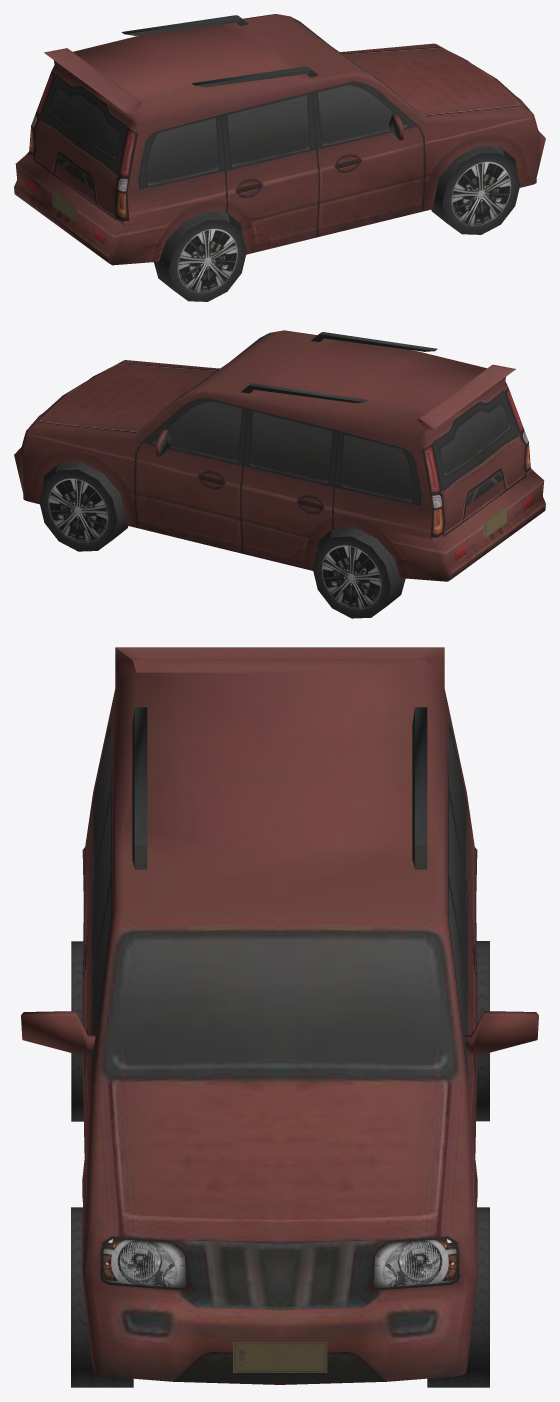
The model's file is sf_suv_01.glb.
3 views of the same model, one above another, from view 1: azimuth 30°, elevation 25°; view 2: azimuth 150°, elevation 25°; view 3: azimuth 270°, elevation 25° (orthographic). The views are drawn at different scales.
Visible parts, largest first — view 1: Traffic_SUV_01_Body, Traffic_SUV_01_Wheel_Back_R_Traffic_Vehicle_Wheels_01_8_0, Traffic_SUV_01_Wheel_Front_R_Traffic_Vehicle_Wheels_01_8_0, Traffic_SUV_01_Light_Break, Traffic_SUV_01_Light_Turn_R; view 2: Traffic_SUV_01_Body, Traffic_SUV_01_Wheel_Back_L_Traffic_Vehicle_Wheels_01_8_0, Traffic_SUV_01_Wheel_Front_L_Traffic_Vehicle_Wheels_01_8_0, Traffic_SUV_01_Light_Break, Traffic_SUV_01_Light_Turn_L; view 3: Traffic_SUV_01_Body, Traffic_SUV_01_Light, Traffic_SUV_01_Wheel_Front_L_Traffic_Vehicle_Wheels_01_8_0, Traffic_SUV_01_Wheel_Front_R_Traffic_Vehicle_Wheels_01_8_0, Traffic_SUV_01_Wheel_Back_L_Traffic_Vehicle_Wheels_01_8_0, Traffic_SUV_01_Wheel_Back_R_Traffic_Vehicle_Wheels_01_8_0.
Part boxes in pixels (left/top/right/bottom): Traffic_SUV_01_Body: left=14, top=14, right=545, bottom=265; Traffic_SUV_01_Wheel_Back_R_Traffic_Vehicle_Wheels_01_8_0: left=154, top=211, right=246, bottom=301; Traffic_SUV_01_Wheel_Front_R_Traffic_Vehicle_Wheels_01_8_0: left=431, top=146, right=520, bottom=234; Traffic_SUV_01_Light_Break: left=36, top=72, right=137, bottom=178; Traffic_SUV_01_Light_Turn_R: left=114, top=190, right=129, bottom=221; Traffic_SUV_01_Body: left=14, top=330, right=545, bottom=581; Traffic_SUV_01_Wheel_Back_L_Traffic_Vehicle_Wheels_01_8_0: left=312, top=527, right=405, bottom=618; Traffic_SUV_01_Wheel_Front_L_Traffic_Vehicle_Wheels_01_8_0: left=39, top=462, right=128, bottom=551; Traffic_SUV_01_Light_Break: left=422, top=388, right=523, bottom=495; Traffic_SUV_01_Light_Turn_L: left=430, top=506, right=445, bottom=537; Traffic_SUV_01_Body: left=21, top=647, right=538, bottom=1384; Traffic_SUV_01_Light: left=100, top=1237, right=459, bottom=1290; Traffic_SUV_01_Wheel_Front_L_Traffic_Vehicle_Wheels_01_8_0: left=427, top=1207, right=489, bottom=1387; Traffic_SUV_01_Wheel_Front_R_Traffic_Vehicle_Wheels_01_8_0: left=71, top=1207, right=133, bottom=1387; Traffic_SUV_01_Wheel_Back_L_Traffic_Vehicle_Wheels_01_8_0: left=476, top=941, right=489, bottom=1121; Traffic_SUV_01_Wheel_Back_R_Traffic_Vehicle_Wheels_01_8_0: left=71, top=941, right=83, bottom=1121.
Bounding box in the file's own units: 4.3 × 1.88 × 2.16.
3 materials, 3 textured.
